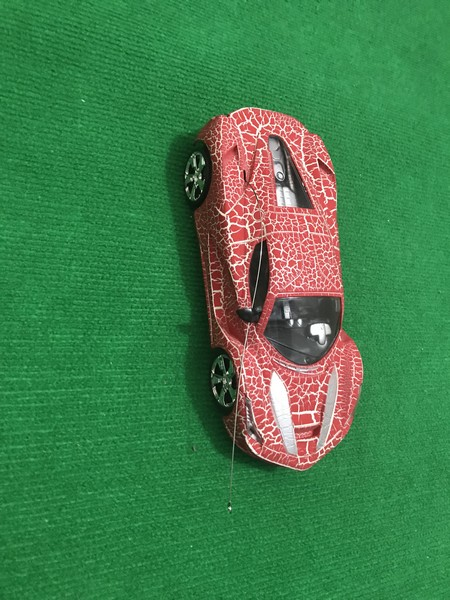RC: (181, 104, 366, 476)
